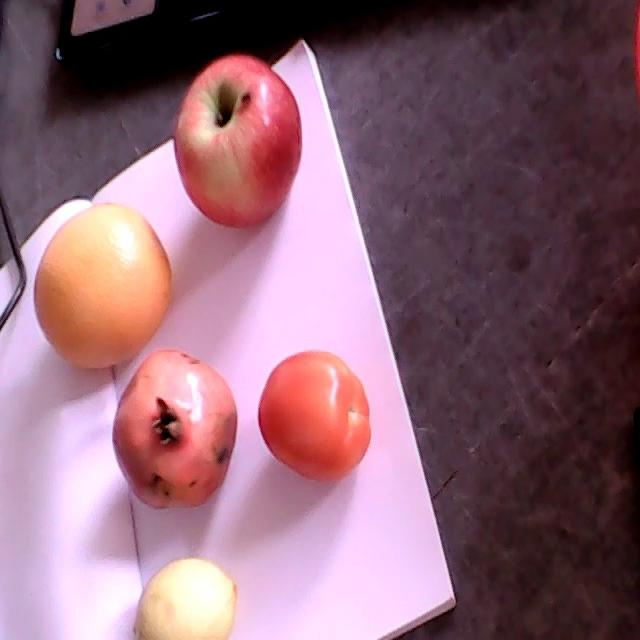apple: (174, 53, 302, 228)
lemon: (134, 559, 237, 638)
orange: (33, 203, 171, 368)
pomegranate: (112, 348, 237, 508)
tomato: (258, 352, 372, 480)
